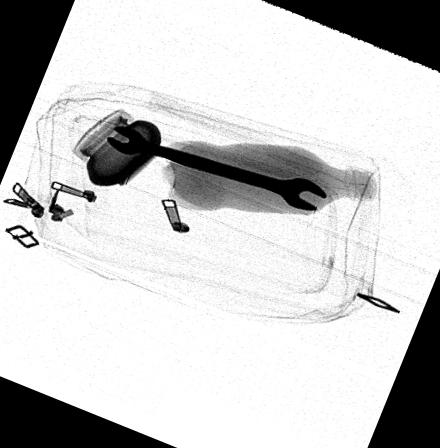Wrench: (105, 124, 327, 210)
